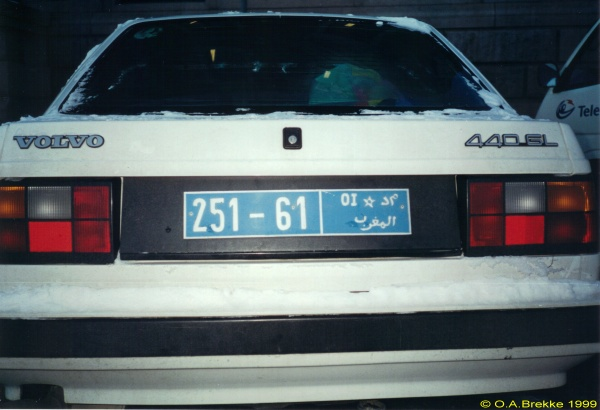number_plate: (183, 191, 413, 235)
